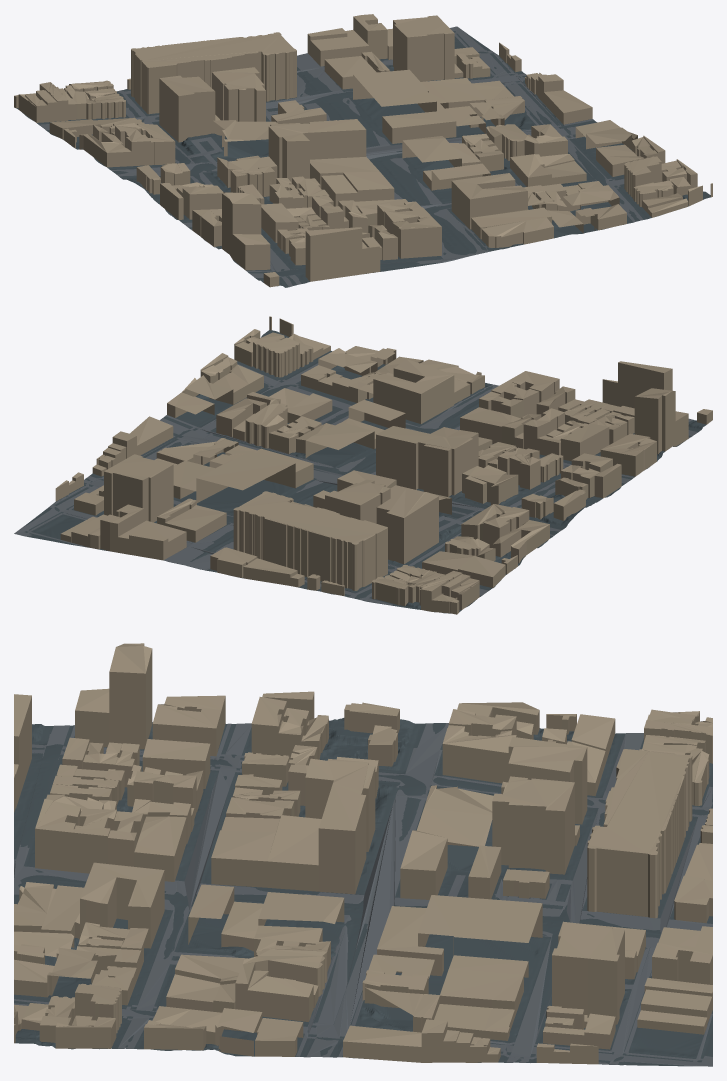
Rendered from epsg26910-1434-10892.lod0.glb.
3 renders of one model, top to bottom at view 1: azimuth 30°, elevation 25°; view 2: azimuth 150°, elevation 25°; view 3: azimuth 270°, elevation 25°, orthographic. The views are drawn at different scales.
Parts seen in each view (by area): view 1: epsg26910-1434-10892-lod0; view 2: epsg26910-1434-10892-lod0; view 3: epsg26910-1434-10892-lod0.
Part boxes in pixels (x1=…): epsg26910-1434-10892-lod0: x1=14, y1=14, x2=712, y2=287; epsg26910-1434-10892-lod0: x1=14, y1=316, x2=712, y2=614; epsg26910-1434-10892-lod0: x1=14, y1=643, x2=712, y2=1066.
Bounding box in the file's own units: 384 × 77.5 × 384.
